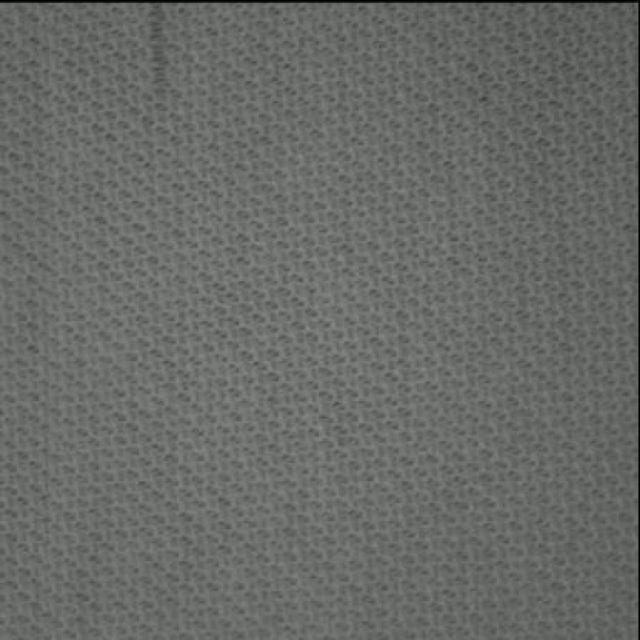Line: (149, 1, 171, 117)
